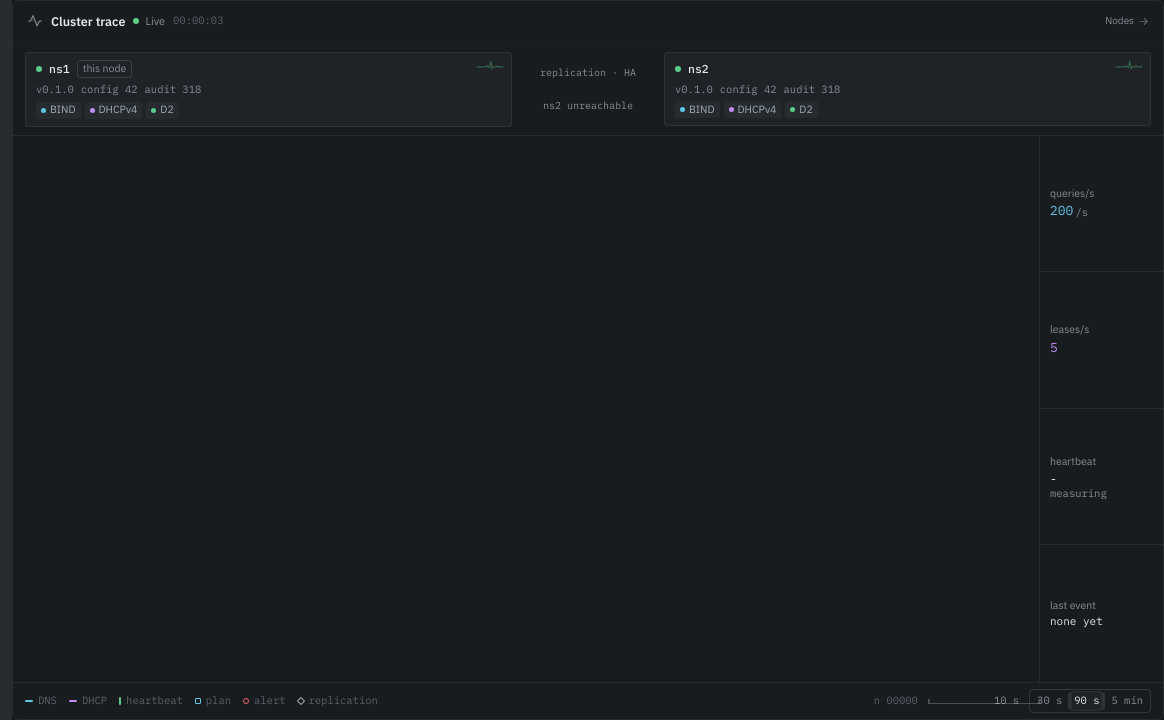
hero tiles › cluster trace › changes the window from the range segment and keeps it for the session
Click the button "30 s" at (1050, 701), box [1031,691,1068,711]
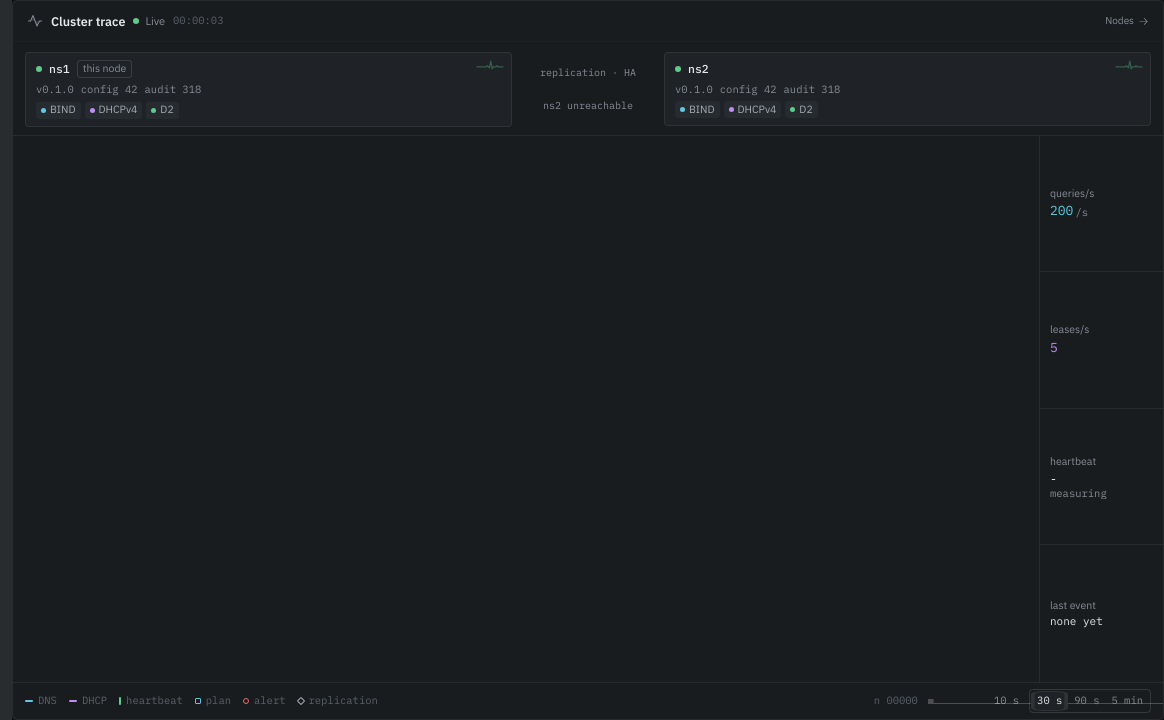
Check: the element with test id "scalebar" reads "10 s", box [994,693,1019,707]
Check: the button "30 s" is pressed, box [1031,691,1068,711]
Click the button "5 min" at (1127, 701), box [1106,691,1149,711]
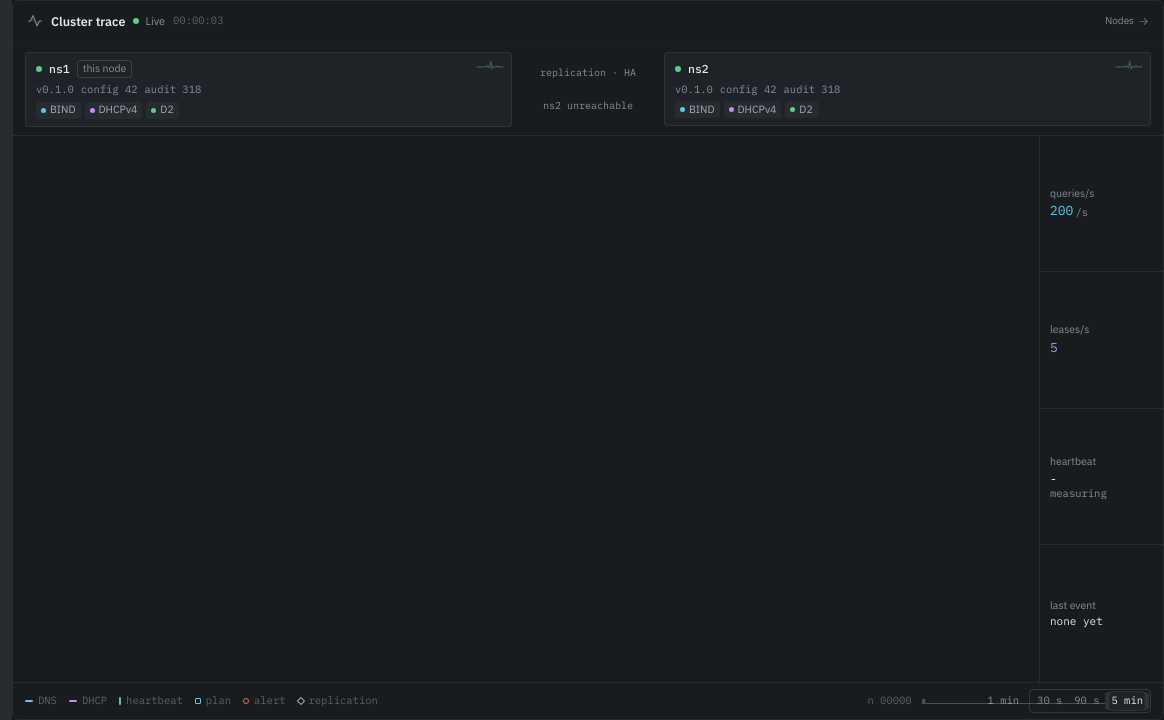
Check: the element with test id "scalebar" reads "1 min", box [988,693,1019,707]
